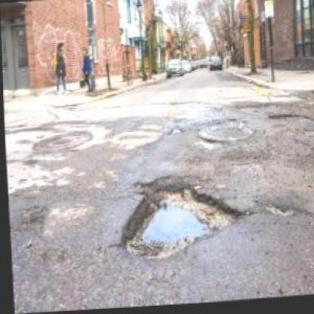Hueco: (114, 171, 238, 265), (266, 113, 312, 132), (17, 202, 46, 232), (263, 202, 294, 222), (166, 127, 184, 138)
